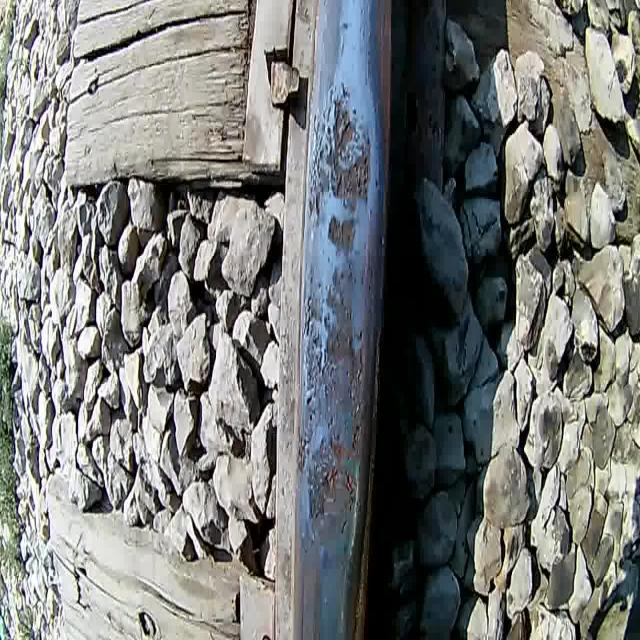Cracks: (346, 312, 366, 452), (339, 463, 358, 539), (309, 106, 324, 189), (297, 417, 316, 478), (305, 480, 328, 520), (301, 286, 315, 342)
Spallings: (328, 92, 373, 204), (301, 340, 346, 408), (318, 412, 345, 503)
Squats: (300, 262, 370, 548), (302, 75, 377, 259)
